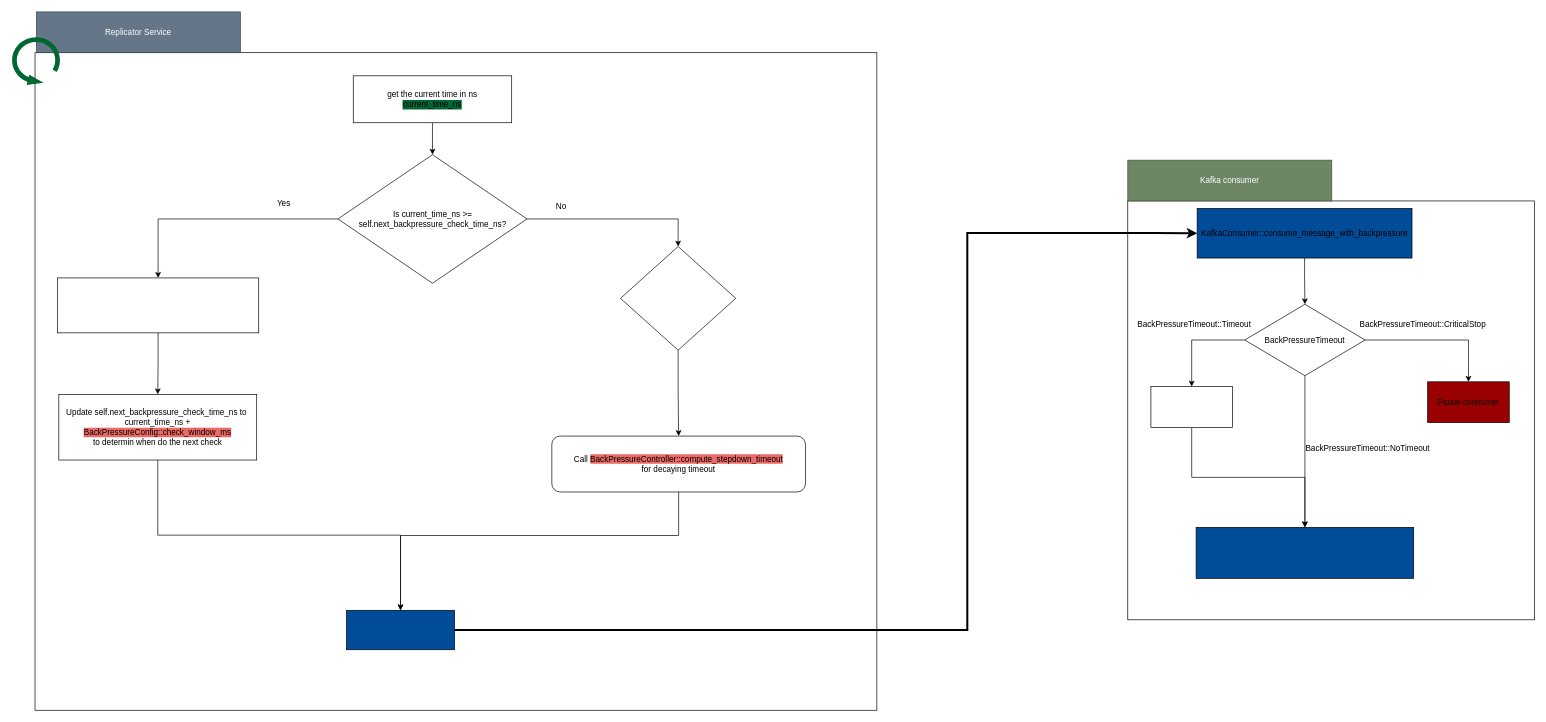
The diagram is 1546 pixels wide and 722 high, and some of its shapes have lost their labels. Each missing label, with the box of its shape:
Apply backpressure timeout in ms: (1150, 386, 1232, 427)
Call BackPressureController::compute_backpressure with the current suffix size: (57, 277, 259, 333)
Call KafkaConsumer::consume_message to receive the message: (1195, 527, 1414, 578)
Did the last check have a timeout?: (620, 246, 736, 350)
Pass BackPressureTimeout to Kafka Consumer: (346, 610, 455, 650)
